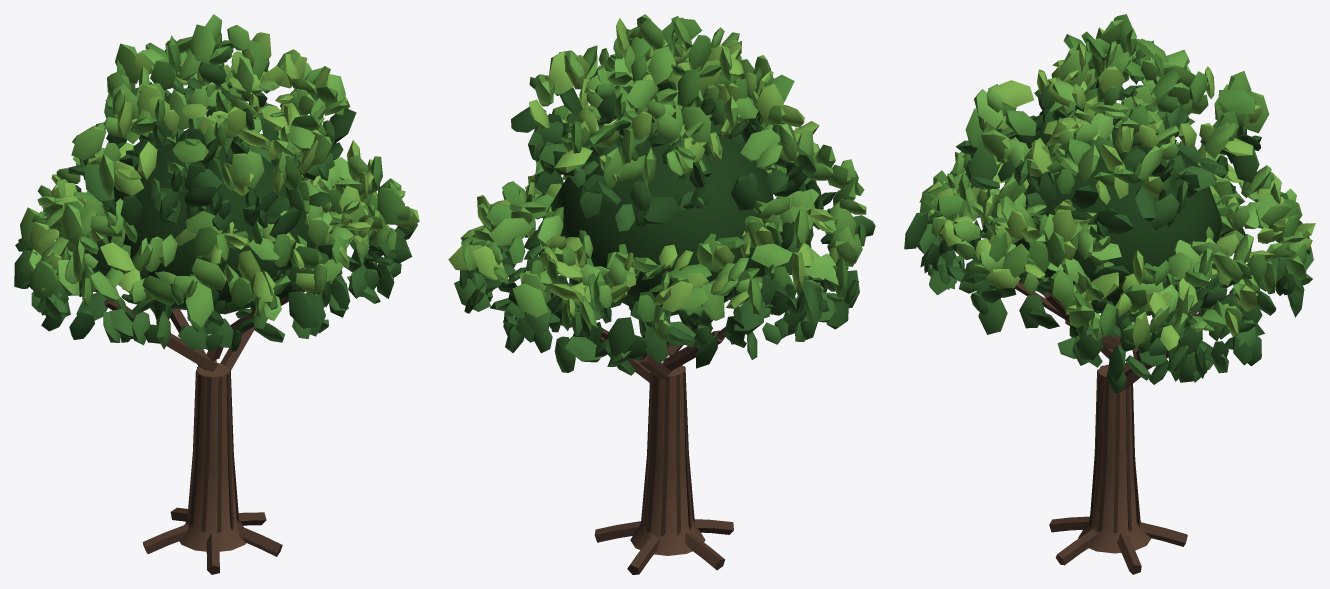
Rendered from tree.glb.
3 renders of one model, left to right at view 1: azimuth 30°, elevation 25°; view 2: azimuth 150°, elevation 25°; view 3: azimuth 270°, elevation 25°, orthographic. The views are drawn at different scales.
Parts seen in each view (by area): view 1: tree; view 2: tree; view 3: tree.
Boxes of the visible parts, x1=… form: tree: x1=14, y1=14, x2=419, y2=574; tree: x1=448, y1=14, x2=875, y2=574; tree: x1=904, y1=14, x2=1315, y2=574.
Size of the model in its own units: 5.88 by 8.15 by 5.81.
